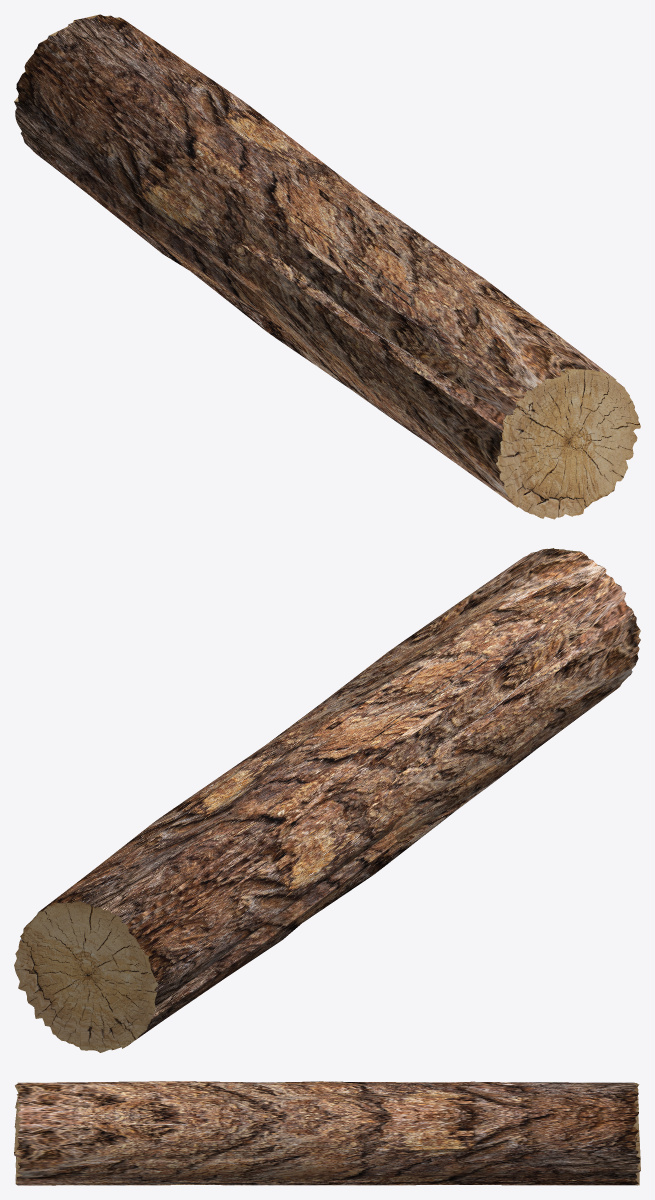
File: TreeLog.fbx
The picture shows the model from 3 angles, top to bottom: view 1: azimuth 30°, elevation 25°; view 2: azimuth 150°, elevation 25°; view 3: azimuth 270°, elevation 25°; orthographic projection. The views are drawn at different scales.
Visible parts, largest first — view 1: Cylinder; view 2: Cylinder; view 3: Cylinder.
Part boxes in pixels (left/top/right/bottom): Cylinder: left=14, top=14, right=640, bottom=519; Cylinder: left=14, top=548, right=640, bottom=1052; Cylinder: left=14, top=1081, right=640, bottom=1185.
Size of the model in its own units: 2.1 by 2.11 by 12.17.
